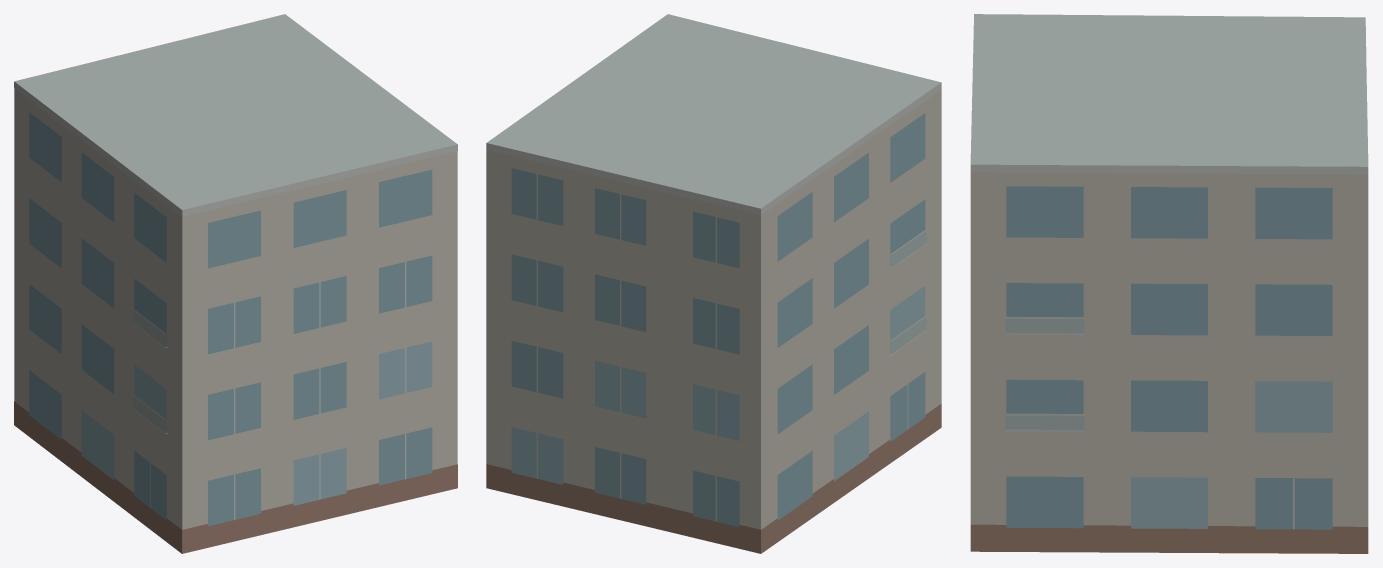
File: residential-0f0f8abc-e312-411d-bf08-866b762073b1.glb
The picture shows the model from 3 angles, left to right: view 1: azimuth 30°, elevation 25°; view 2: azimuth 150°, elevation 25°; view 3: azimuth 270°, elevation 25°; orthographic projection. The views are drawn at different scales.
Parts seen in each view (by area): view 1: residential-0f0f8abc-e312-411d-bf08-866b762073b1.tmp; view 2: residential-0f0f8abc-e312-411d-bf08-866b762073b1.tmp; view 3: residential-0f0f8abc-e312-411d-bf08-866b762073b1.tmp.
Part boxes in pixels (bbox=[...]): residential-0f0f8abc-e312-411d-bf08-866b762073b1.tmp: bbox=[14, 14, 457, 553]; residential-0f0f8abc-e312-411d-bf08-866b762073b1.tmp: bbox=[486, 14, 941, 553]; residential-0f0f8abc-e312-411d-bf08-866b762073b1.tmp: bbox=[970, 14, 1368, 553].
Size of the model in its own units: 10.36 by 12.2 by 11.38.
